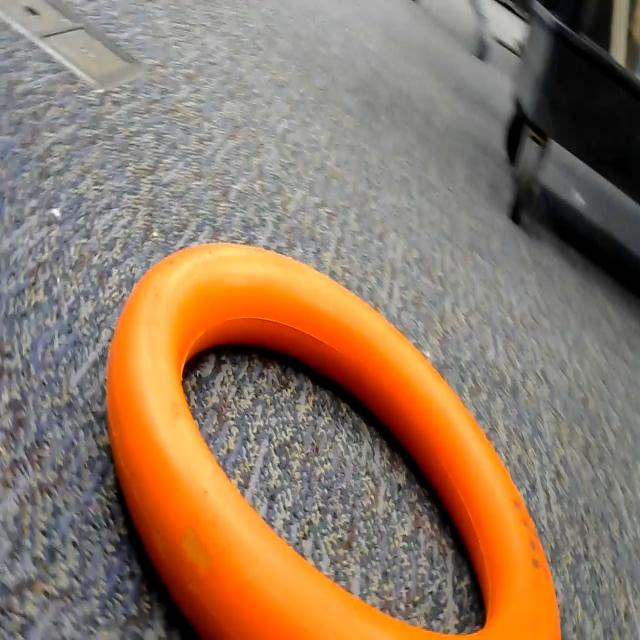note: (105, 241, 571, 640)
